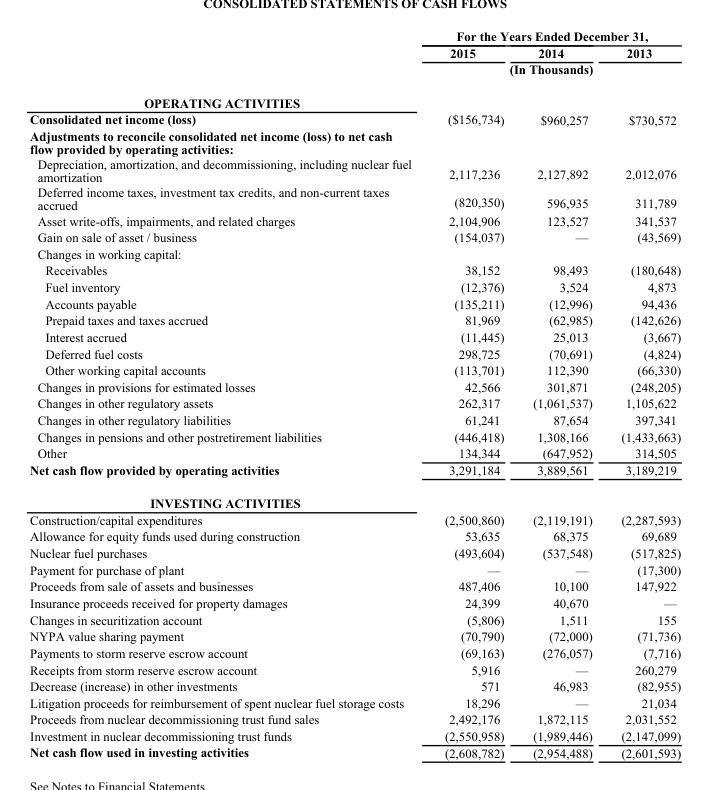table: (29, 28, 680, 759)
table column: (29, 28, 427, 759), (427, 28, 517, 759), (517, 28, 606, 759), (606, 28, 680, 759)
table column header: (29, 28, 680, 85)
table projected row header: (29, 127, 680, 156), (29, 85, 680, 110), (29, 486, 680, 511), (29, 245, 680, 261)
table row: (29, 127, 680, 156), (29, 156, 680, 184), (29, 184, 680, 212), (29, 60, 680, 85), (29, 85, 680, 110), (29, 461, 680, 486), (29, 486, 680, 511), (29, 110, 680, 127), (29, 228, 680, 245), (29, 261, 680, 278), (29, 278, 680, 295), (29, 311, 680, 328), (29, 344, 680, 361), (29, 361, 680, 378), (29, 394, 680, 411), (29, 411, 680, 428), (29, 444, 680, 461), (29, 527, 680, 544), (29, 544, 680, 561), (29, 577, 680, 594), (29, 610, 680, 627), (29, 627, 680, 644), (29, 660, 680, 677), (29, 677, 680, 694), (29, 710, 680, 727), (29, 28, 680, 44), (29, 44, 680, 60), (29, 212, 680, 228), (29, 245, 680, 261), (29, 295, 680, 311), (29, 328, 680, 344), (29, 378, 680, 394), (29, 428, 680, 444), (29, 511, 680, 527), (29, 561, 680, 577), (29, 594, 680, 610), (29, 644, 680, 660), (29, 694, 680, 710), (29, 727, 680, 743), (29, 743, 680, 759)
table spanning cell: (427, 60, 680, 85), (427, 28, 680, 44)
